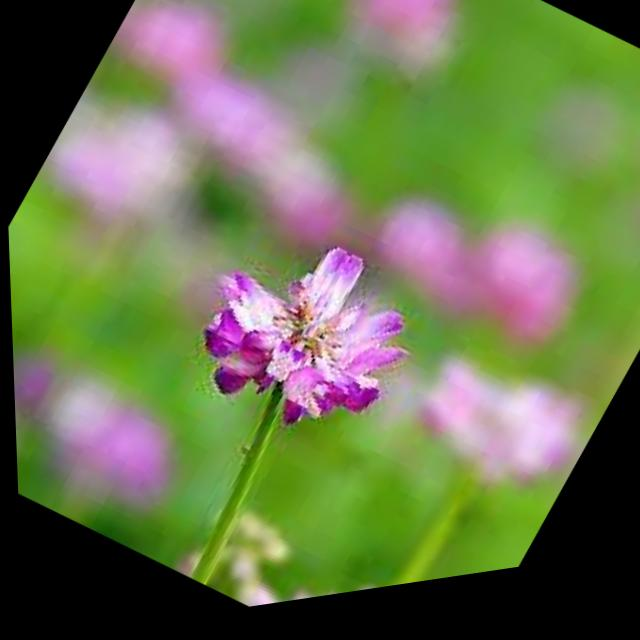Flower: (158, 181, 441, 487)
